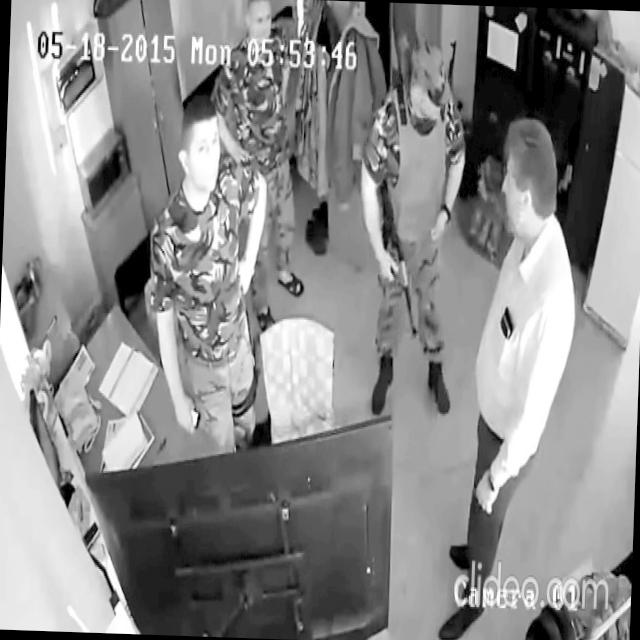gun: (368, 168, 424, 339), (444, 36, 466, 110)
person: (438, 114, 583, 640), (142, 92, 272, 456), (205, 0, 315, 331)
person with a gun: (352, 35, 468, 415)
